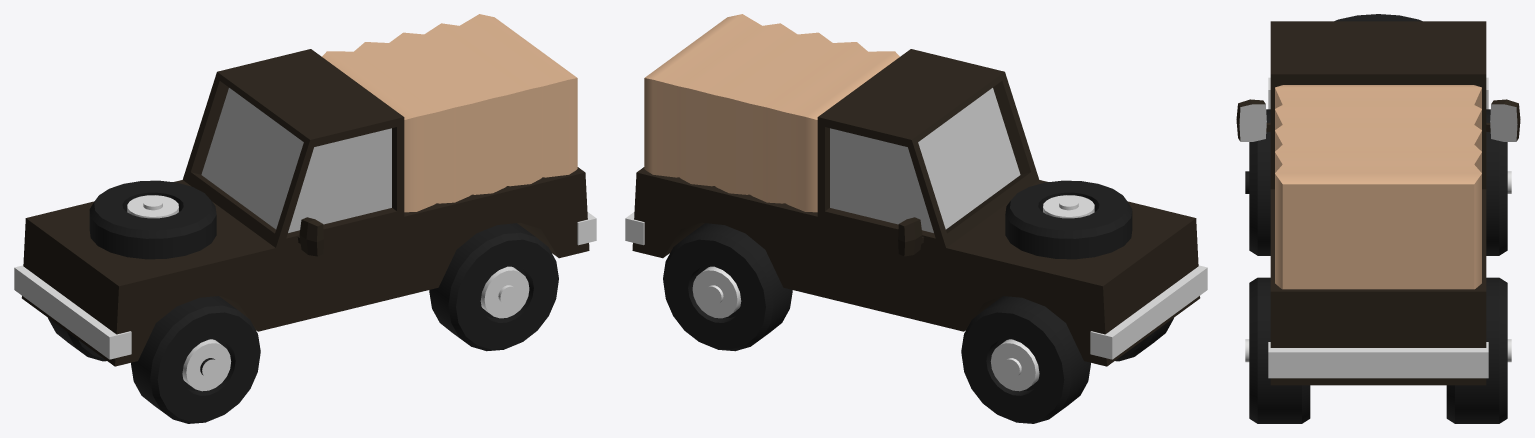
The model's file is jipe.fbx.
3 views of the same model, side by side, from view 1: azimuth 30°, elevation 25°; view 2: azimuth 150°, elevation 25°; view 3: azimuth 270°, elevation 25° (orthographic). The views are drawn at different scales.
Parts seen in each view (by area): view 1: Jipe; view 2: Jipe; view 3: Jipe.
Boxes of the visible parts, box(x1,y1,x2,y2) form: Jipe: box(14, 14, 596, 423); Jipe: box(625, 14, 1207, 423); Jipe: box(1236, 14, 1520, 423).
Size of the model in its own units: 352 by 174 by 154.
